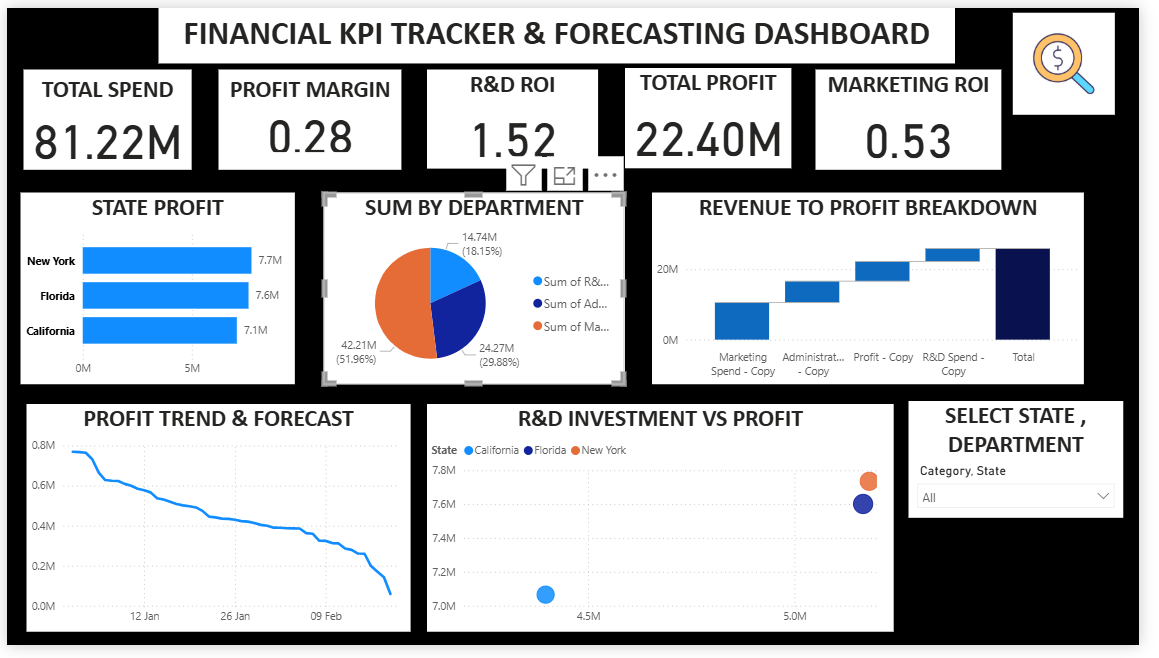

The page's visual inventory and layout, read from the dashboard file:
{"tool":"powerbi","page":{"name":"Page 1","canvas":[1280,720],"ordinal":0},"visuals":[{"type":"card","title":"MARKETING ROI","fields":{"Values":["50_Startups.Marketing ROI %"]},"box":[913.6,69.5,210.2,113.6],"z":0},{"type":"card","title":"PROFIT MARGIN","fields":{"Values":["50_Startups.Profit Margin % Measure"]},"box":[239,69.5,206.8,113.6],"z":1000},{"type":"card","title":"R&D ROI ","fields":{"Values":["50_Startups.R&D ROI %"]},"box":[474.6,69.5,193.2,111.9],"z":2000},{"type":"card","title":"TOTAL PROFIT","fields":{"Values":["50_Startups.Total Profit"]},"box":[698.3,67.8,188.1,113.6],"z":3000},{"type":"card","title":"TOTAL SPEND","fields":{"Values":["50_Startups.Total Spend Measure"]},"box":[18.6,69.5,189.8,113.6],"z":4000},{"type":"barChart","title":"STATE PROFIT","fields":{"Category":["50_Startups.State"],"Y":["Sum(50_Startups.Profit)"]},"box":[15.3,208.5,310.2,216.9],"z":5000},{"type":"pieChart","title":"SUM BY DEPARTMENT","fields":{"Y":["Sum(50_Startups.R&D Spend)","Sum(50_Startups.Administration)","Sum(50_Startups.Marketing Spend)"]},"box":[357.6,208.5,340.7,216.9],"z":6000},{"type":"lineChart","title":"PROFIT TREND & FORECAST","fields":{"Category":["50_Startups.Date"],"Y":["50_Startups.Total Profit"]},"box":[22,447.5,433.9,257.6],"z":8000},{"type":"textbox","box":[171.2,0,900,62.7],"z":9000},{"type":"image","box":[1108.7,0,171.8,125.7],"z":10000},{"type":"waterfallChart","title":"REVENUE TO PROFIT BREAKDOWN","fields":{"Category":["50_Startups.Category"],"Y":["Sum(50_Startups.Value)"]},"box":[728.8,208.5,488.1,216.9],"z":10001},{"type":"scatterChart","title":"R&D INVESTMENT VS PROFIT","fields":{"X":["Sum(50_Startups.R&D Spend)"],"Y":["Sum(50_Startups.Profit)"],"Size":["Sum(50_Startups.Marketing Spend)"],"Series":["50_Startups.State"]},"box":[474.6,447.5,527.1,257.6],"z":10002},{"type":"slicer","title":"SELECT STATE , DEPARTMENT","fields":{"Values":["50_Startups.Category","50_Startups.State"]},"box":[1018.6,444.1,242.4,132.2],"z":10003}]}

Visuals, with their boxes in screenshot pixels (x1, y1, x2, y2), scaled from the page's 1280x720 canvas onto the 1159x658 screenshot:
"MARKETING ROI" card: Rect(827, 64, 1018, 167)
"PROFIT MARGIN" card: Rect(216, 64, 404, 167)
"R&D ROI " card: Rect(430, 64, 605, 166)
"TOTAL PROFIT" card: Rect(632, 62, 803, 166)
"TOTAL SPEND" card: Rect(17, 64, 189, 167)
"STATE PROFIT" barChart: Rect(14, 191, 295, 389)
"SUM BY DEPARTMENT" pieChart: Rect(324, 191, 632, 389)
"PROFIT TREND & FORECAST" lineChart: Rect(20, 409, 413, 644)
textbox: Rect(155, 0, 970, 57)
image: Rect(1004, 0, 1158, 115)
"REVENUE TO PROFIT BREAKDOWN" waterfallChart: Rect(660, 191, 1102, 389)
"R&D INVESTMENT VS PROFIT" scatterChart: Rect(430, 409, 907, 644)
"SELECT STATE , DEPARTMENT" slicer: Rect(922, 406, 1142, 527)
